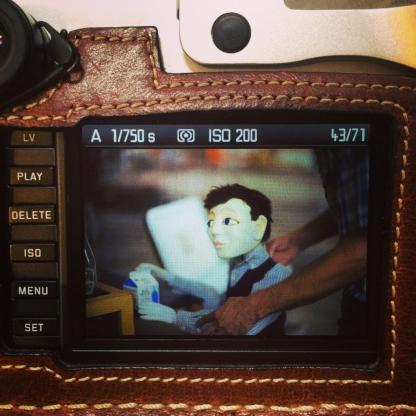Camera: (5, 49, 416, 403)
